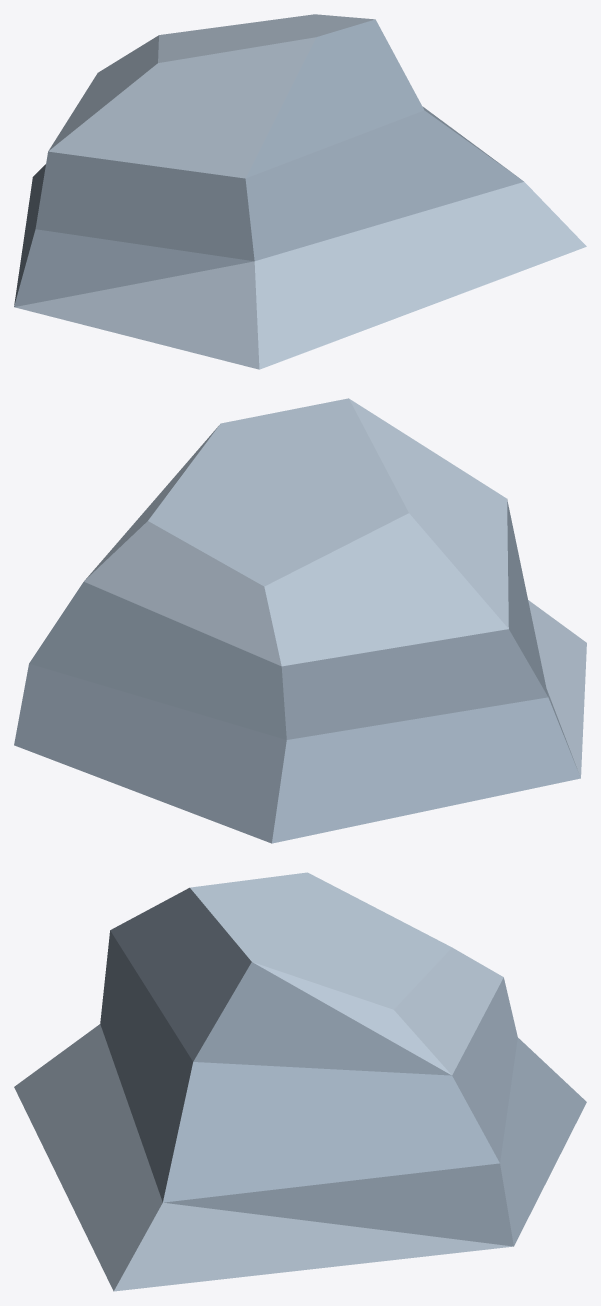
Rendered from Icemound1_Alt2.fbx.
The picture shows the model from 3 angles, top to bottom: view 1: azimuth 30°, elevation 25°; view 2: azimuth 150°, elevation 25°; view 3: azimuth 270°, elevation 25°; orthographic projection. The views are drawn at different scales.
Visible parts, largest first — view 1: Icemound1_Alt2; view 2: Icemound1_Alt2; view 3: Icemound1_Alt2.
Part boxes in pixels (bbox=[...]): Icemound1_Alt2: bbox=[14, 14, 586, 369]; Icemound1_Alt2: bbox=[14, 398, 586, 843]; Icemound1_Alt2: bbox=[14, 872, 586, 1291].
Size of the model in its own units: 1.19 by 0.5615 by 1.07.
